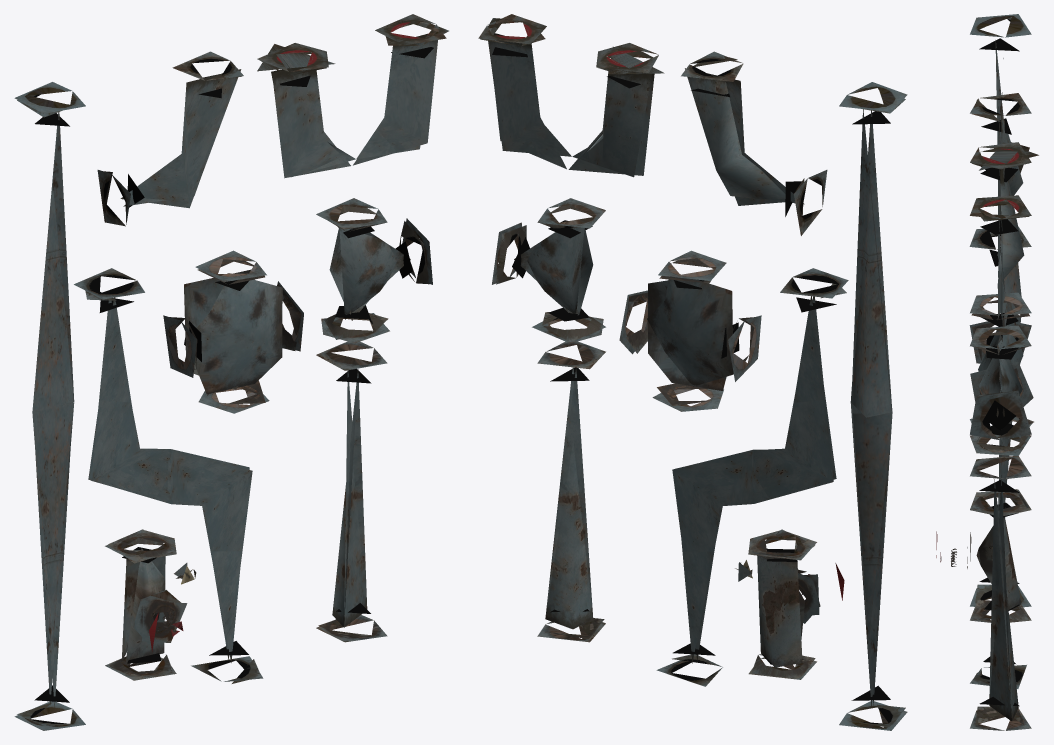
File: modular_industrial_pipes_01_lod2.gltf
3 renders of one model, left to right at view 1: azimuth 30°, elevation 25°; view 2: azimuth 150°, elevation 25°; view 3: azimuth 270°, elevation 25°, orthographic. The views are drawn at different scales.
Visible parts, largest first — view 1: modular_industrial_pipes_01_lod2; view 2: modular_industrial_pipes_01_lod2; view 3: modular_industrial_pipes_01_lod2.
Boxes of the visible parts, <box> form: modular_industrial_pipes_01_lod2: <box>14,14,448,730</box>; modular_industrial_pipes_01_lod2: <box>478,14,907,730</box>; modular_industrial_pipes_01_lod2: <box>936,14,1038,730</box>.
Bounding box in the file's own units: 1.38 × 1.98 × 0.3205.
2 materials, 2 textured.
